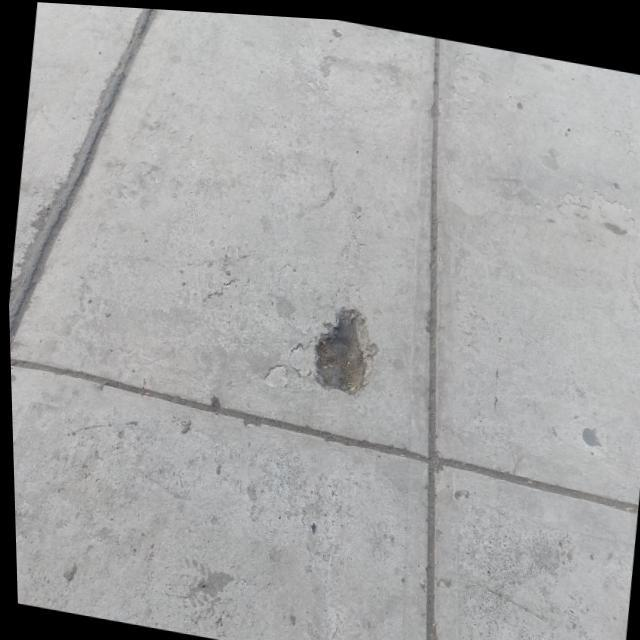hole: (306, 296, 382, 396)
